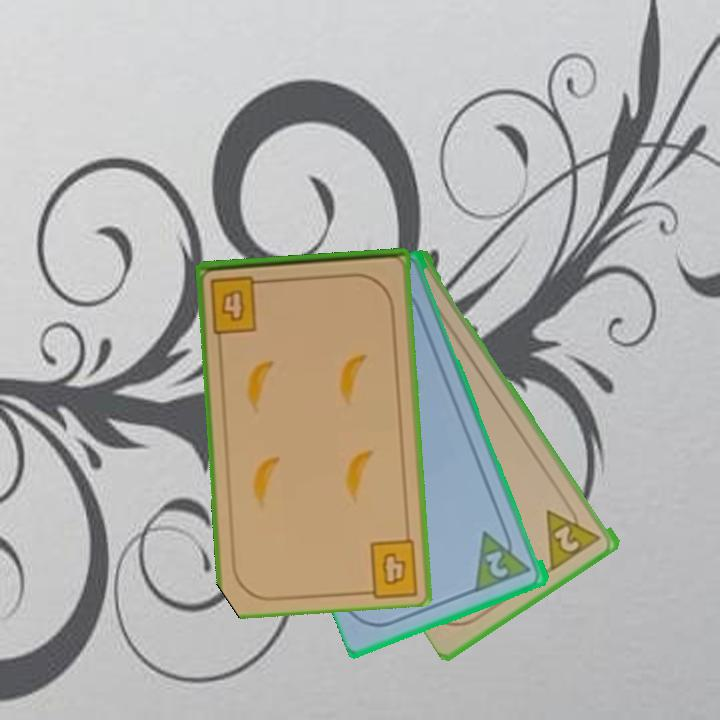2p: (542, 497, 604, 573), (482, 547, 512, 581)
4b: (207, 272, 271, 335), (379, 549, 410, 589)
